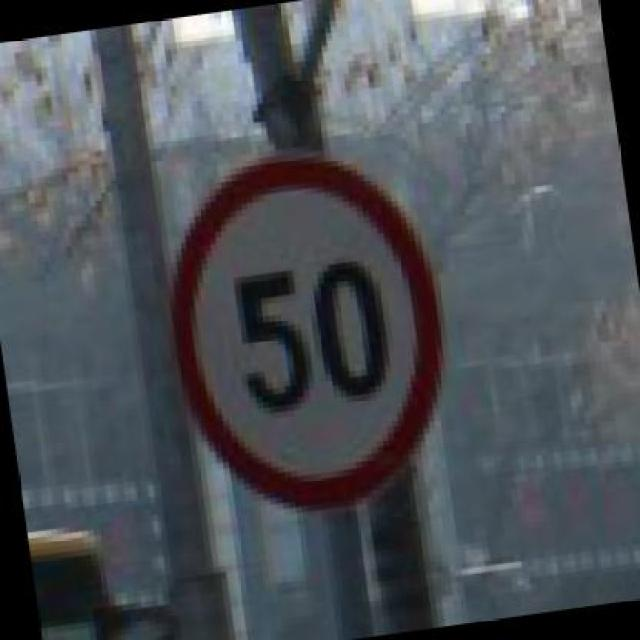Limite-50: (167, 153, 446, 518)
